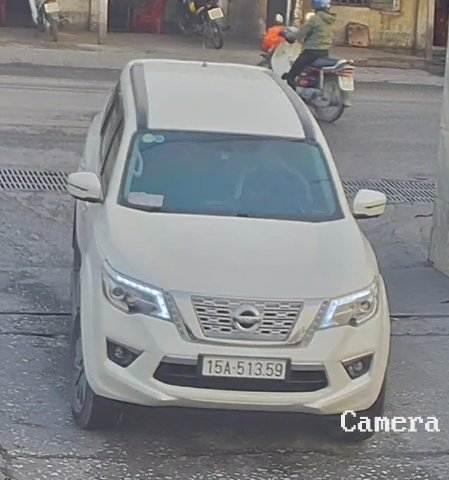vehicle plate: (196, 346, 291, 384)
